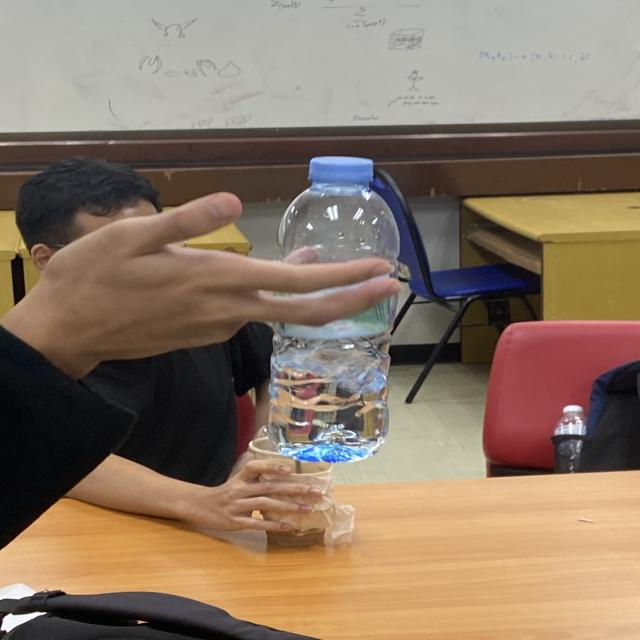bottle: (268, 155, 400, 462)
cup: (251, 421, 336, 547)
